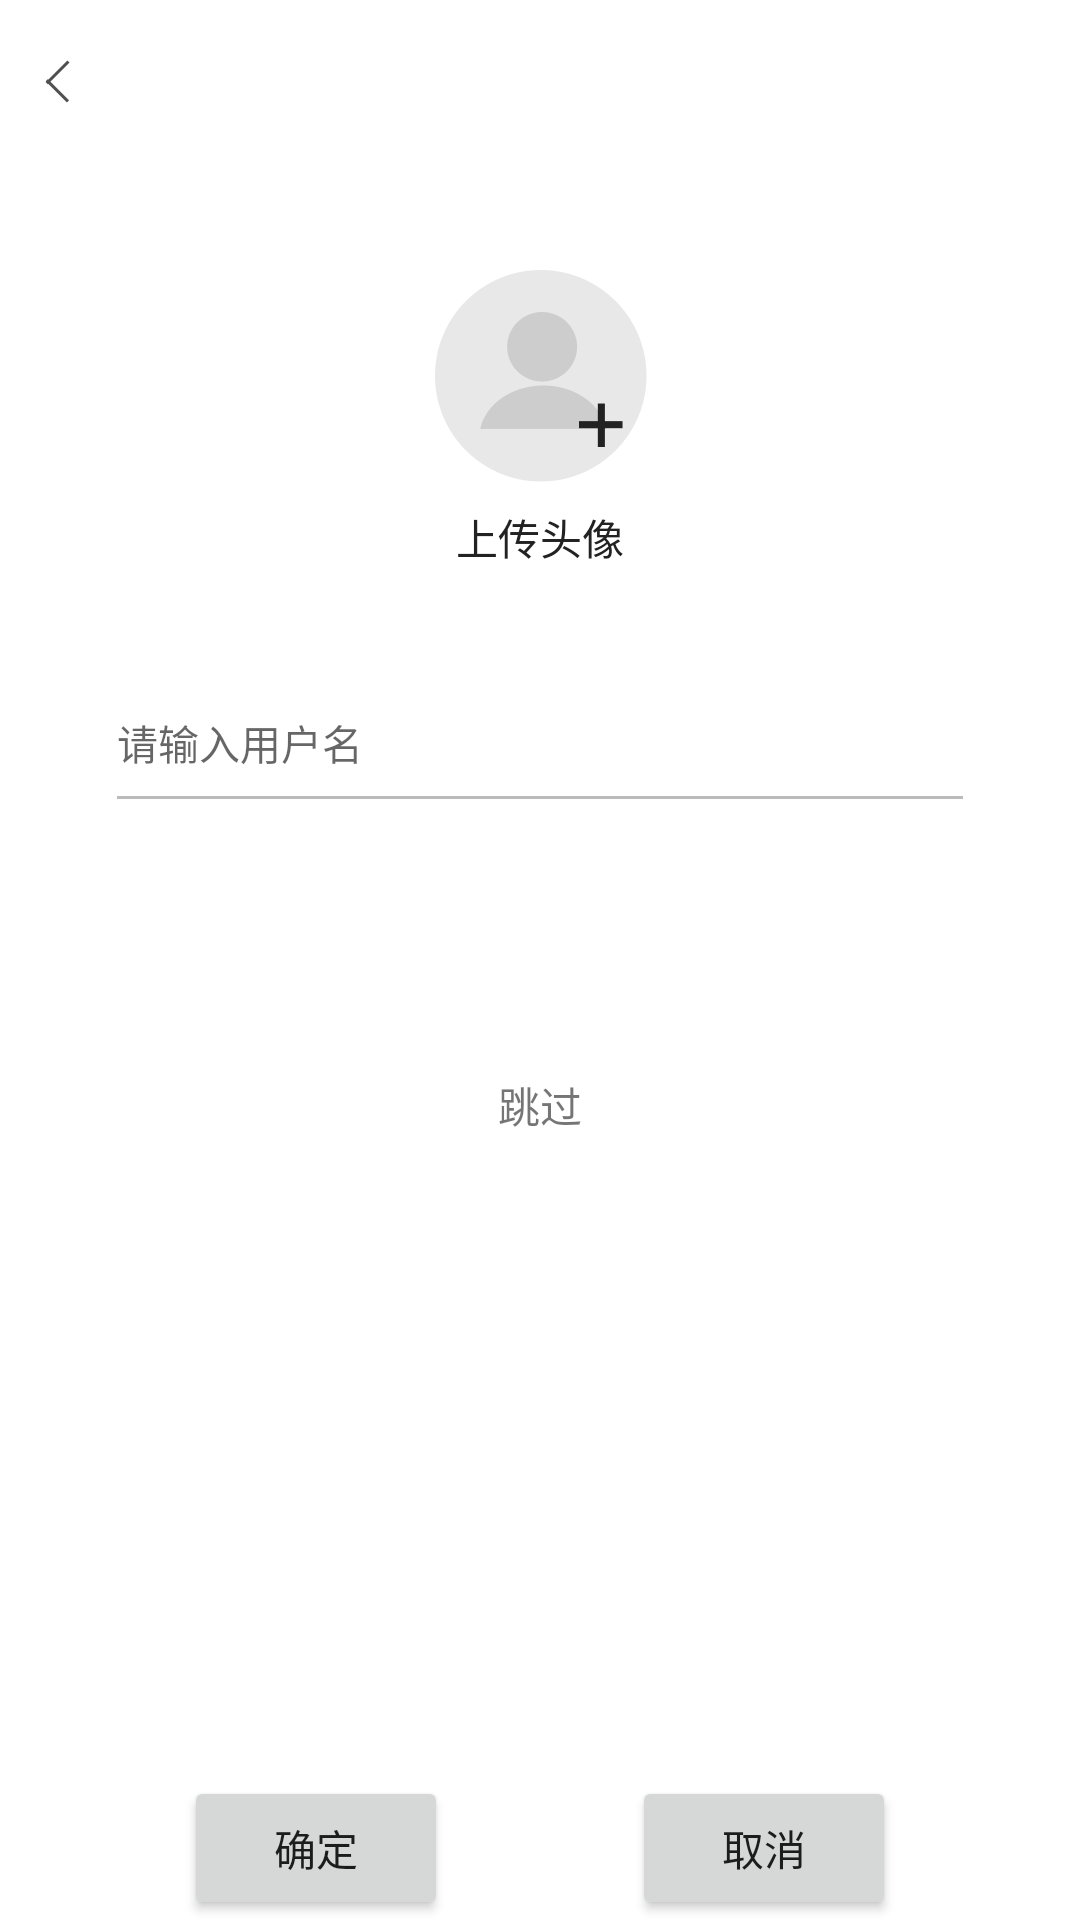

Screen size 1080w x 1920h. Icon name, then its box in pixels as (x1, y1, x2, y2):
register fanhui: (46, 60, 70, 103)
